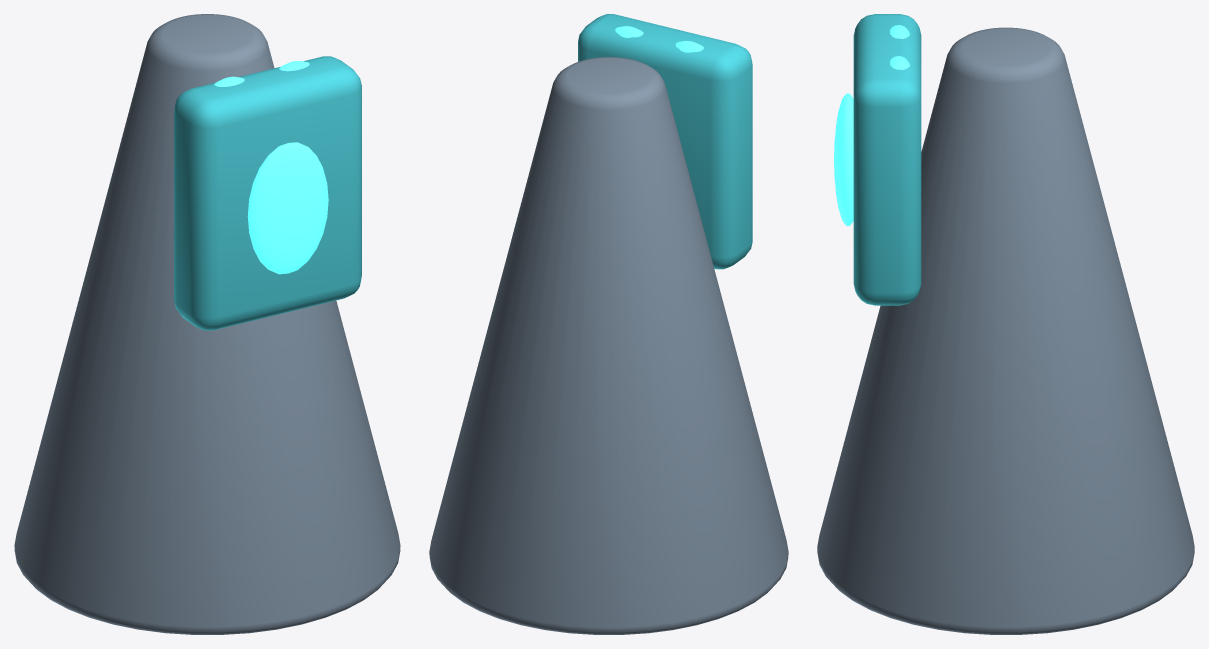
Rendered from wisp_v7.glb.
3 views of the same model, side by side, from view 1: azimuth 30°, elevation 25°; view 2: azimuth 150°, elevation 25°; view 3: azimuth 270°, elevation 25° (orthographic). The views are drawn at different scales.
Parts seen in each view (by area): view 1: LANTERN_SPIRIT_PRIMARY, SPIRIT_LANTERN_ACCENT, SPIRIT_FLAME_EMISSIVE; view 2: LANTERN_SPIRIT_PRIMARY, SPIRIT_LANTERN_ACCENT; view 3: LANTERN_SPIRIT_PRIMARY, SPIRIT_LANTERN_ACCENT, SPIRIT_FLAME_EMISSIVE.
Boxes of the visible parts, bbox=[...] form: LANTERN_SPIRIT_PRIMARY: bbox=[14, 14, 400, 634]; SPIRIT_LANTERN_ACCENT: bbox=[174, 56, 361, 330]; SPIRIT_FLAME_EMISSIVE: bbox=[247, 142, 328, 274]; LANTERN_SPIRIT_PRIMARY: bbox=[429, 57, 788, 634]; SPIRIT_LANTERN_ACCENT: bbox=[578, 14, 752, 269]; LANTERN_SPIRIT_PRIMARY: bbox=[817, 27, 1194, 634]; SPIRIT_LANTERN_ACCENT: bbox=[853, 14, 921, 305]; SPIRIT_FLAME_EMISSIVE: bbox=[834, 93, 853, 226].
Size of the model in its own units: 1.04 by 1.57 by 1.04.
